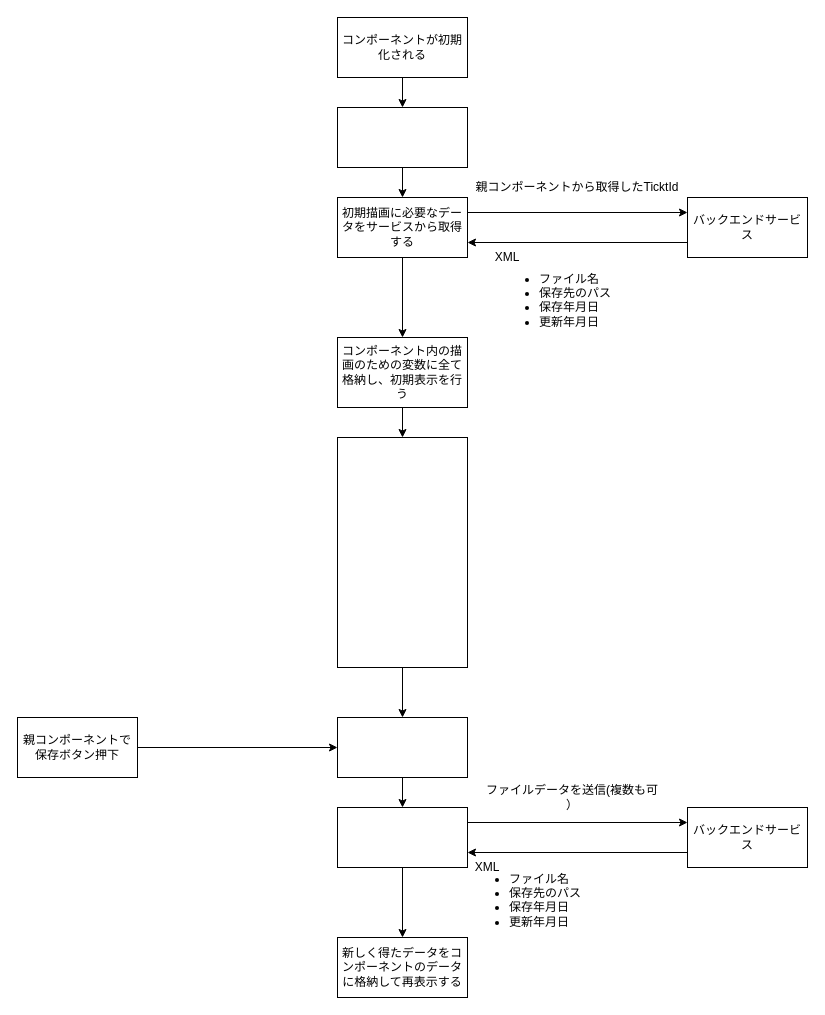
The diagram is 825 pixels wide and 1015 high, and some of its shapes have lost their labels. The box of each missing label's shape, as (x1, y1, x2, y2) in pixels:
フォーム内に添付されたファイルをサービスに送信: (336, 806, 468, 868)
添付ファイル保存処理発火: (336, 716, 468, 778)
添付処理: (336, 436, 468, 668)
親コンポーネントからTicketIdを取得する: (336, 106, 468, 168)
